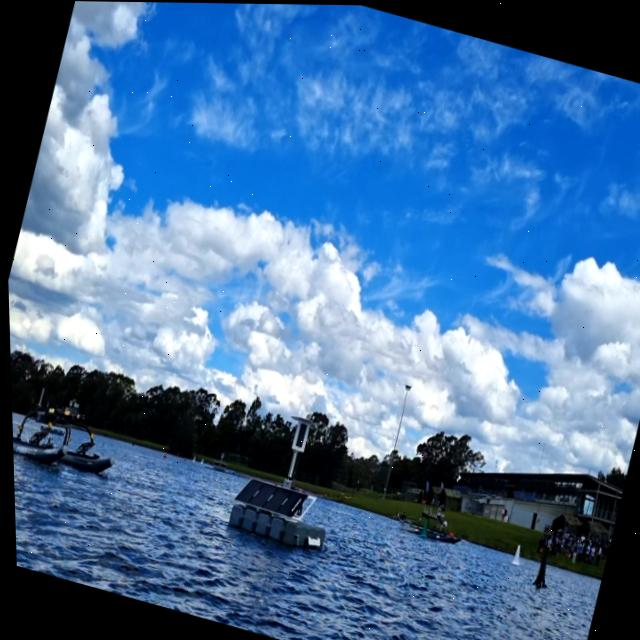led: (289, 420, 306, 449)
